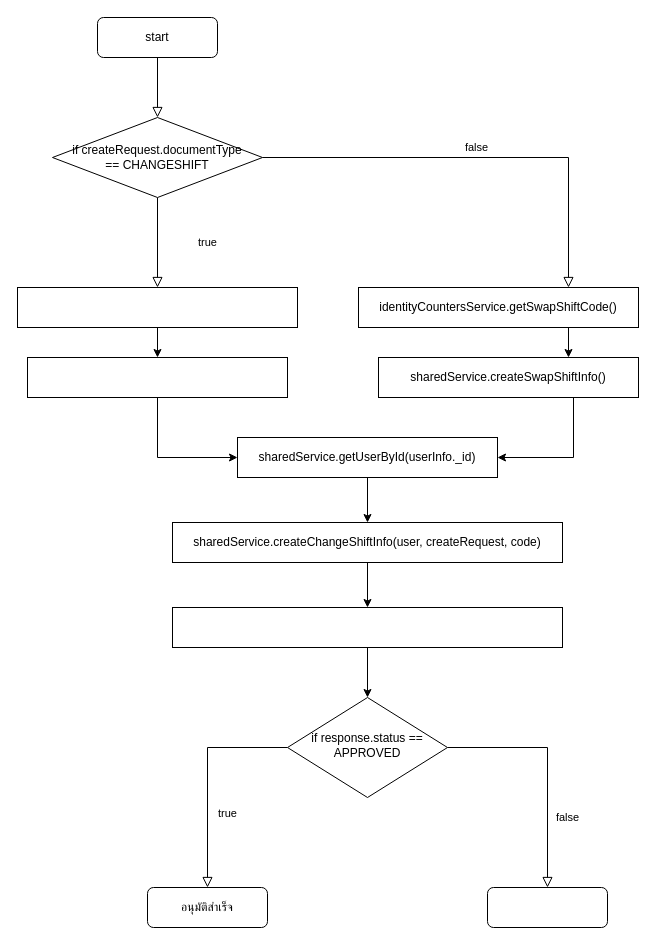
This 656x945 diagram has some shape labels left out. The centre of each missing label's shape, as x and y in pixels:
"getChangeShiftInfoById(result._id)" belongs at pixel 367 627.
"identityCountersService.getChangeShiftCode()" belongs at pixel 157 307.
"sharedService.createChangeShiftInfo()" belongs at pixel 157 377.
"รออนุมัติ" belongs at pixel 547 907.
